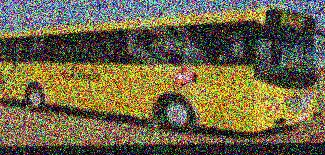bus: (0, 10, 325, 135)
